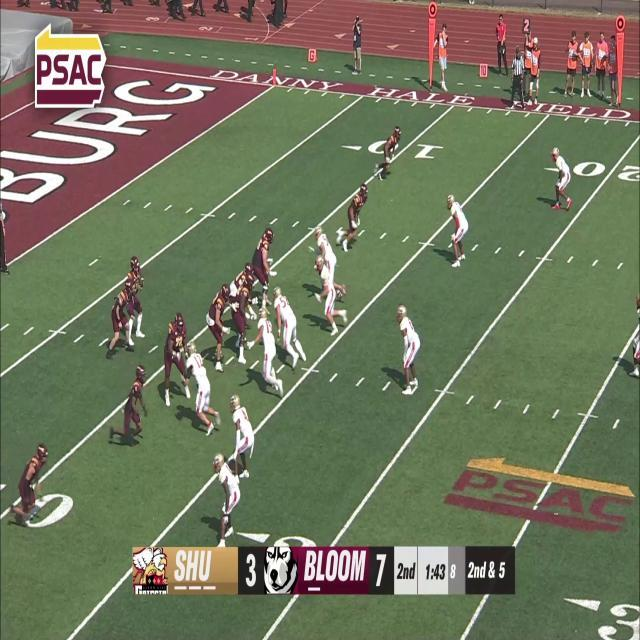football: (138, 276, 146, 290)
